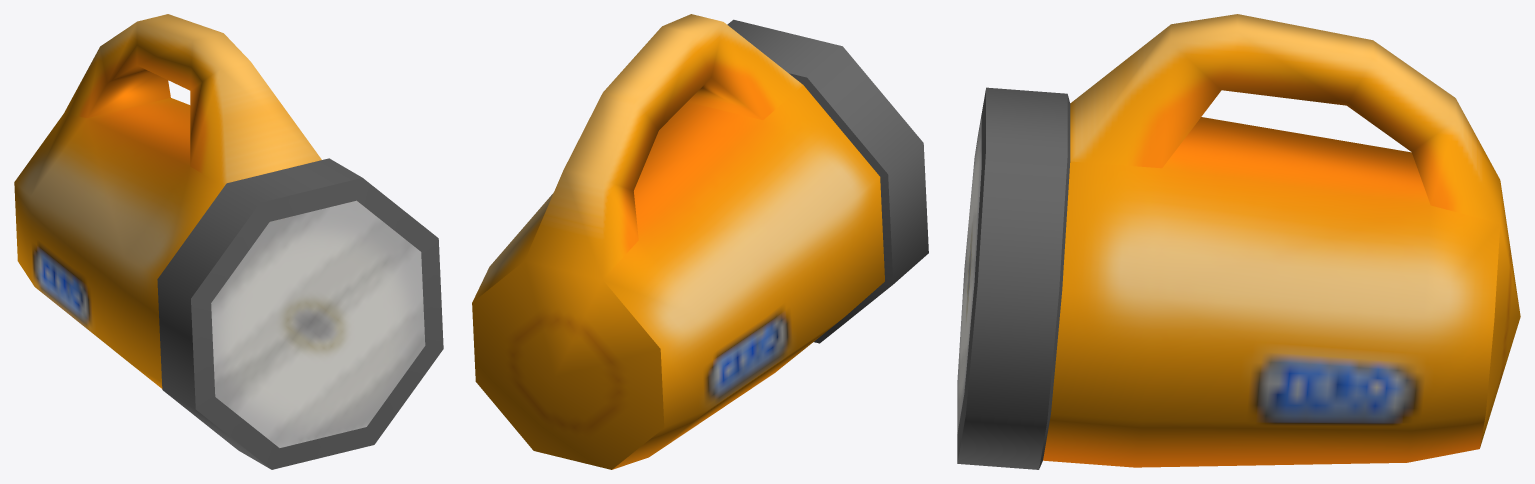
File: FlashLight.FBX
3 renders of one model, left to right at view 1: azimuth 30°, elevation 25°; view 2: azimuth 150°, elevation 25°; view 3: azimuth 270°, elevation 25°, orthographic. The views are drawn at different scales.
Parts seen in each view (by area): view 1: FlashLight; view 2: FlashLight; view 3: FlashLight.
Part boxes in pixels (left/top/right/bottom): FlashLight: left=14, top=14, right=443, bottom=469; FlashLight: left=472, top=14, right=928, bottom=469; FlashLight: left=957, top=14, right=1520, bottom=469.
Bounding box in the file's own units: 0.2766 × 0.3641 × 0.4467.
